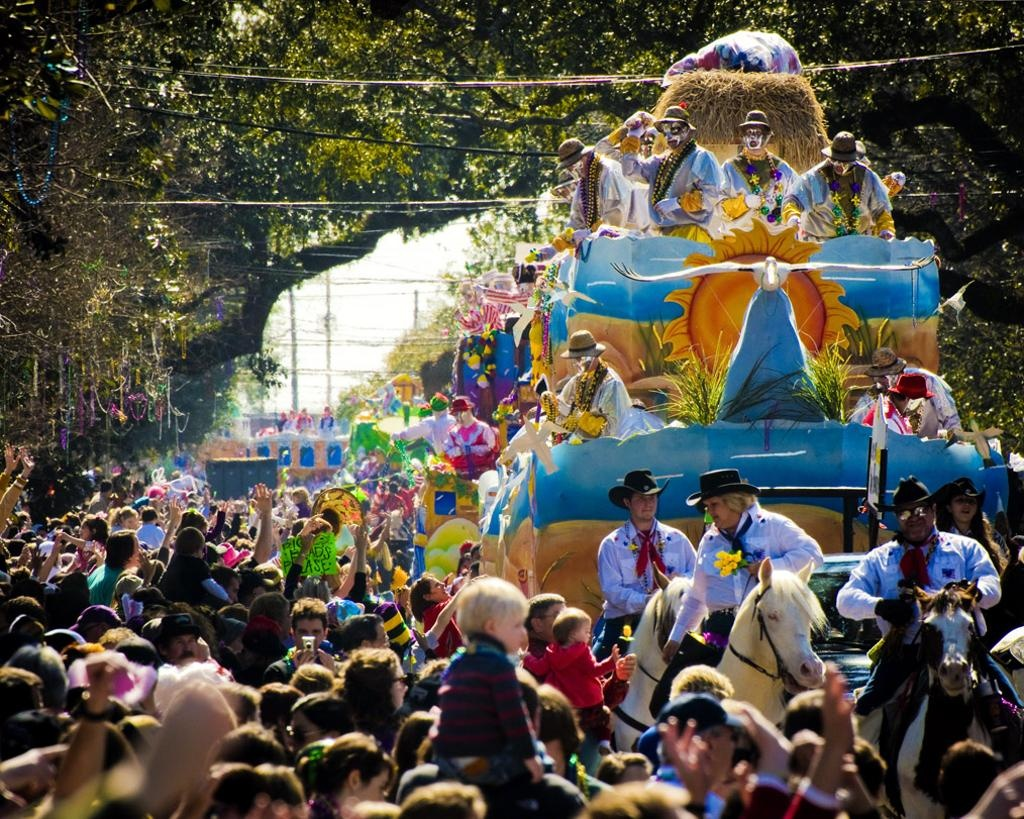human_face: (352, 763, 388, 817), (291, 712, 327, 762), (540, 599, 570, 647), (896, 501, 932, 540), (499, 604, 527, 652), (702, 493, 736, 527), (384, 665, 408, 713), (698, 724, 724, 768), (622, 763, 648, 805), (168, 631, 198, 666), (294, 616, 322, 650), (628, 488, 656, 519), (950, 491, 976, 523), (370, 620, 390, 658), (663, 118, 687, 146), (20, 623, 44, 651), (743, 124, 767, 150), (275, 597, 291, 635), (81, 623, 103, 649), (426, 578, 448, 602), (901, 394, 927, 414), (830, 154, 854, 174), (573, 616, 591, 642), (223, 576, 239, 604), (573, 352, 597, 370), (875, 371, 899, 387), (566, 158, 588, 174), (128, 536, 140, 564), (472, 548, 488, 568), (459, 556, 473, 578), (193, 522, 207, 544), (122, 512, 134, 528), (194, 540, 204, 558), (78, 524, 90, 538), (292, 494, 300, 504)
